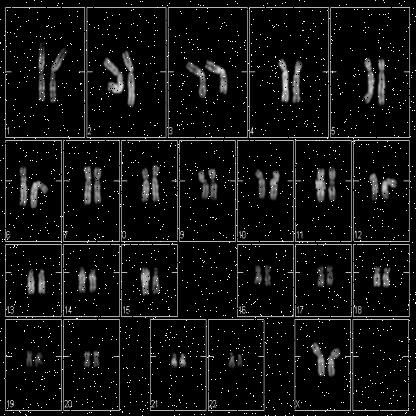1: (48, 36, 68, 107), (36, 37, 47, 107)
10: (268, 162, 282, 200), (255, 162, 266, 200)
11: (314, 162, 328, 204), (327, 164, 341, 204)
12: (380, 171, 398, 202), (366, 171, 380, 203)
13: (26, 262, 36, 298), (36, 262, 46, 298)
14: (88, 262, 99, 296), (77, 264, 88, 297)
15: (140, 260, 152, 300), (152, 260, 164, 300)
16: (262, 262, 272, 288), (254, 260, 262, 287)
17: (314, 262, 326, 292), (326, 262, 337, 292)
18: (380, 262, 392, 293), (370, 262, 382, 292)
19: (25, 344, 34, 375), (35, 344, 44, 375)
2: (102, 54, 124, 99), (123, 50, 140, 107)
20: (82, 346, 94, 372), (91, 347, 103, 373)
21: (169, 350, 178, 372), (180, 350, 188, 372)
22: (226, 347, 236, 373), (237, 347, 247, 373)
3: (184, 62, 206, 100), (207, 62, 229, 100)
4: (276, 54, 292, 107), (290, 55, 306, 107)
5: (363, 52, 375, 108), (376, 52, 388, 108)
6: (30, 179, 48, 209), (18, 164, 28, 210)
7: (93, 163, 104, 208), (82, 164, 92, 209)
8: (139, 163, 150, 207), (150, 163, 160, 207)
9: (209, 168, 221, 201), (198, 167, 209, 200)
X: (308, 337, 327, 381), (325, 338, 344, 382)
